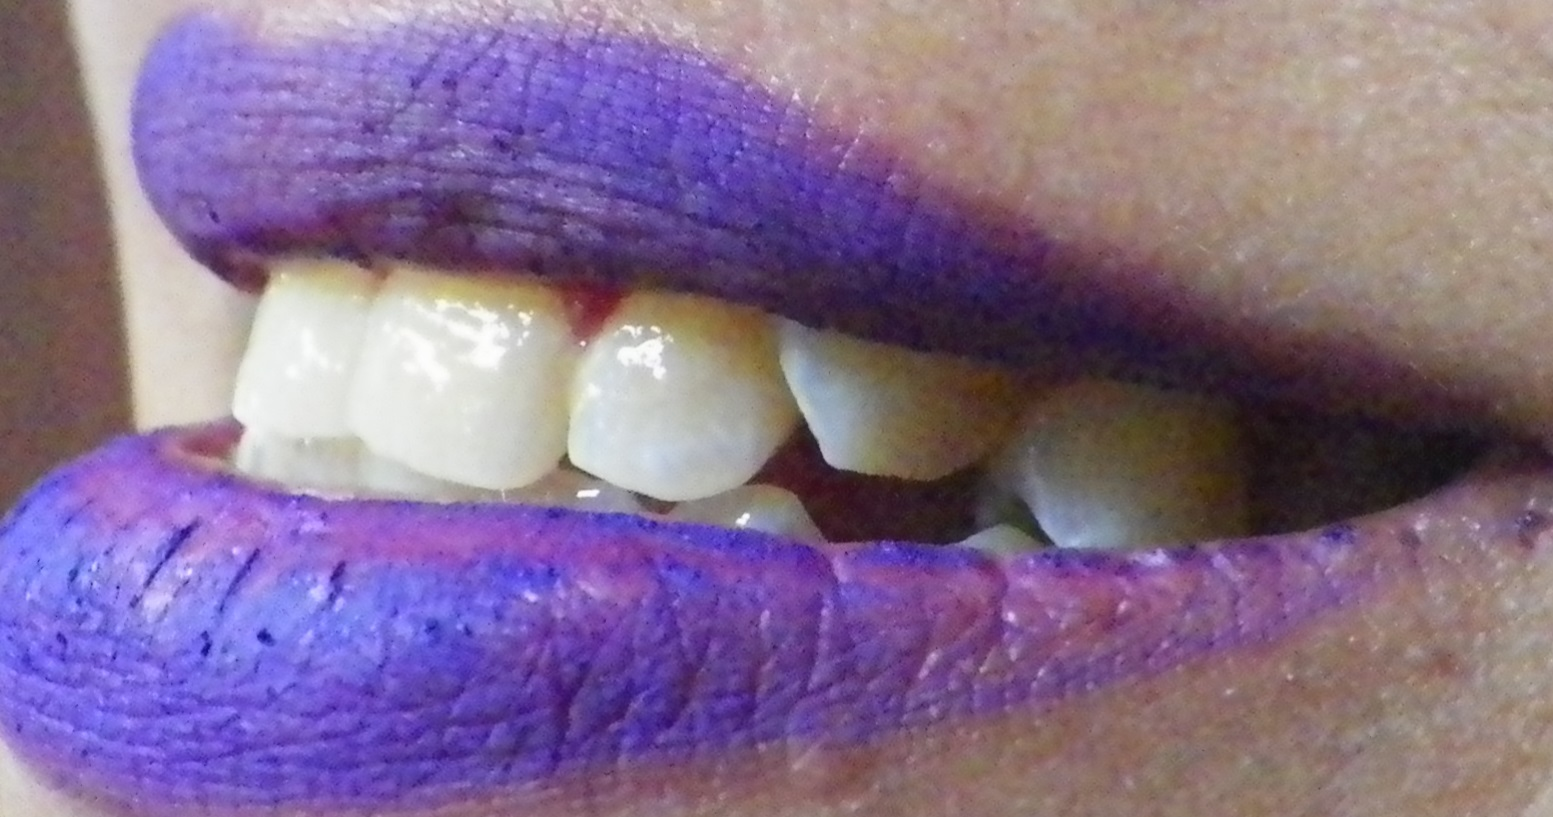boca: (228, 262, 1248, 548)
